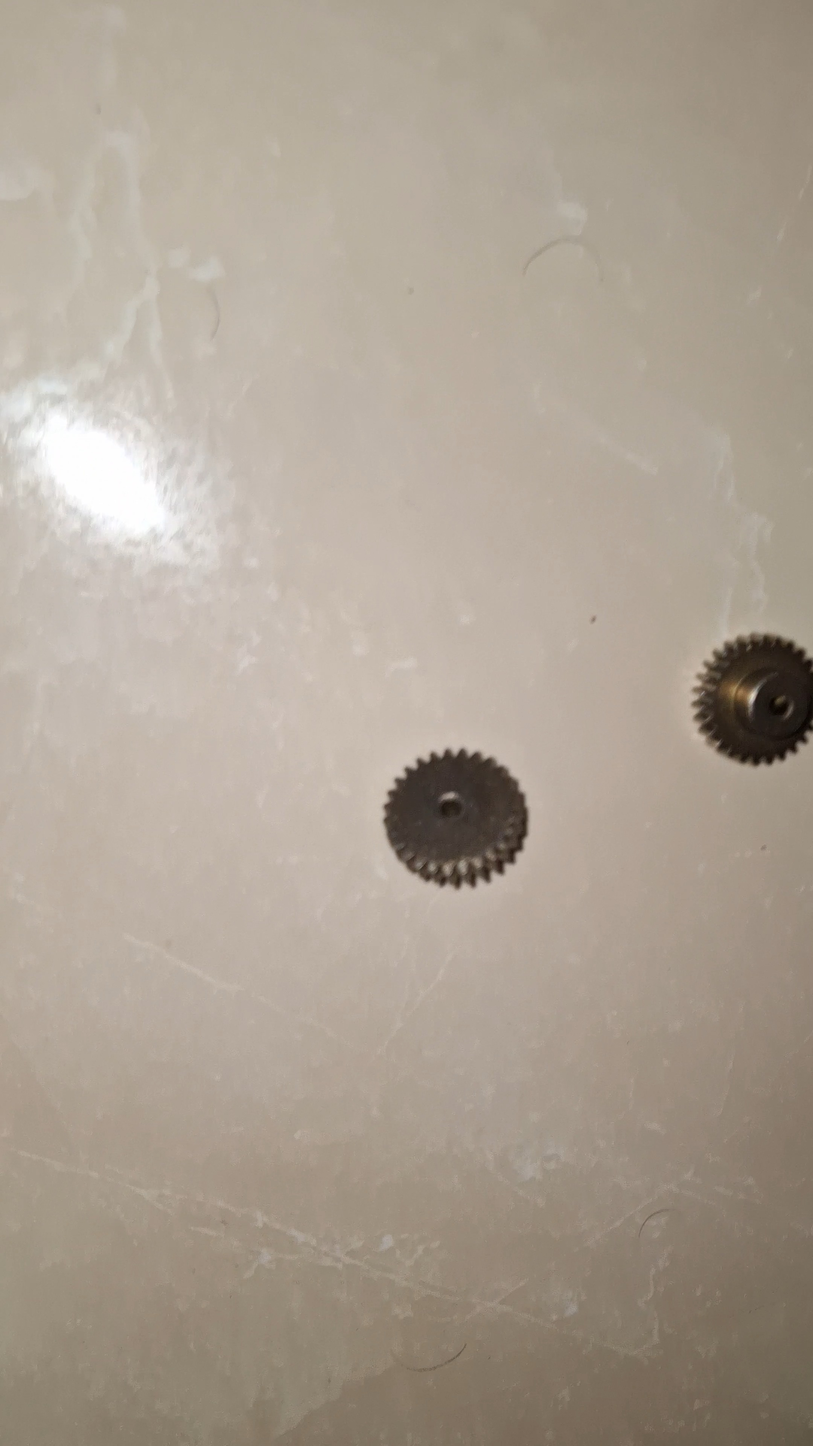spur gear: (384, 750, 527, 887), (695, 635, 813, 764)
